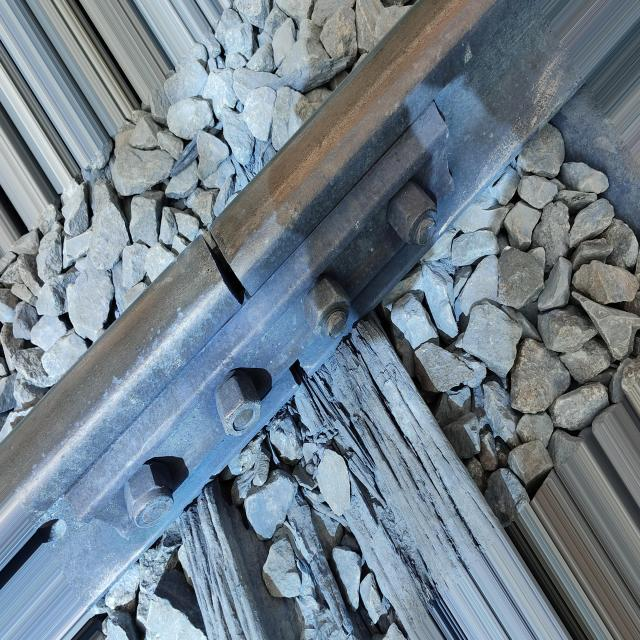Good Joint: (59, 102, 455, 546)
